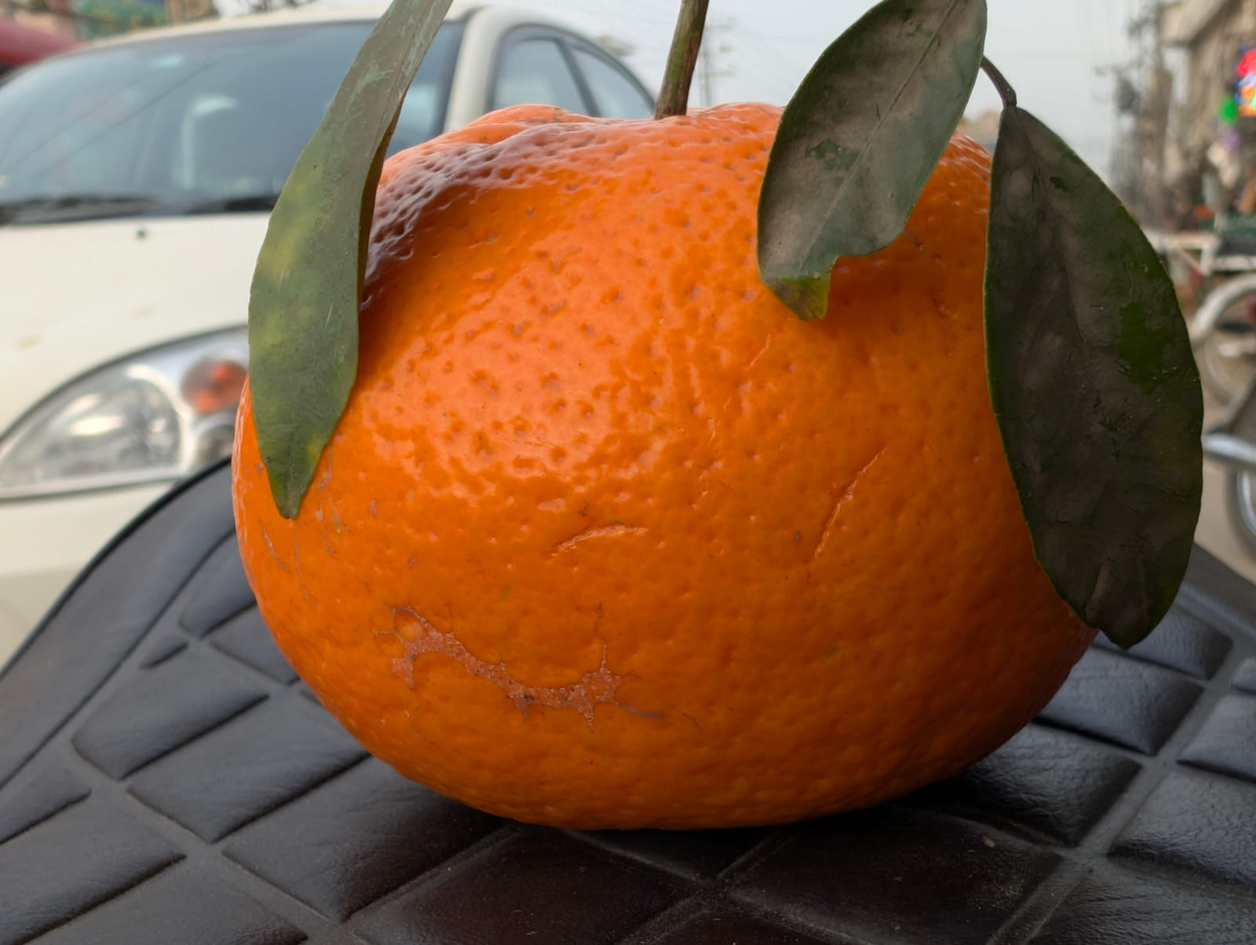orange: (256, 201, 1158, 843)
